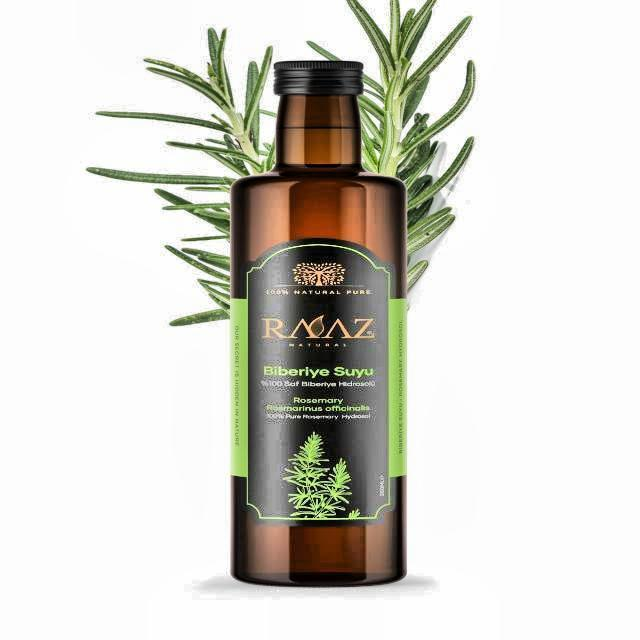glass: (229, 59, 409, 589)
